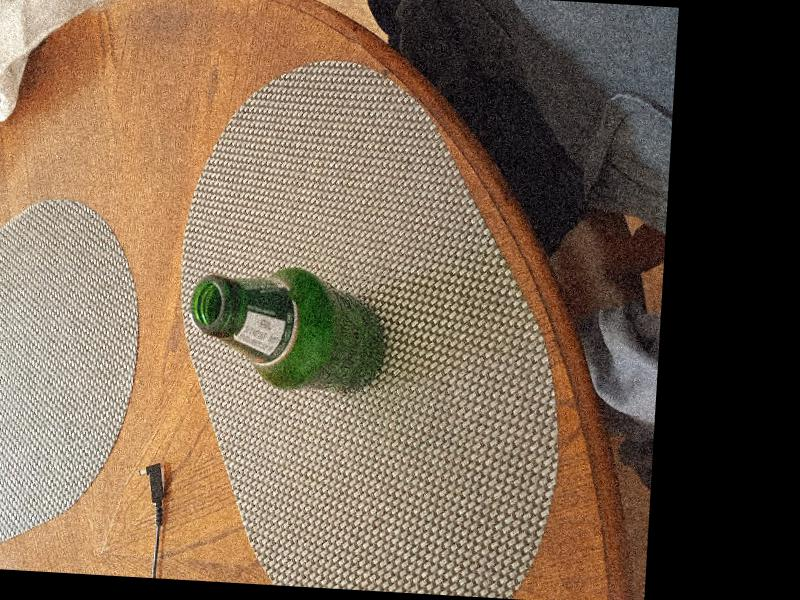Beer: (188, 260, 390, 393)
